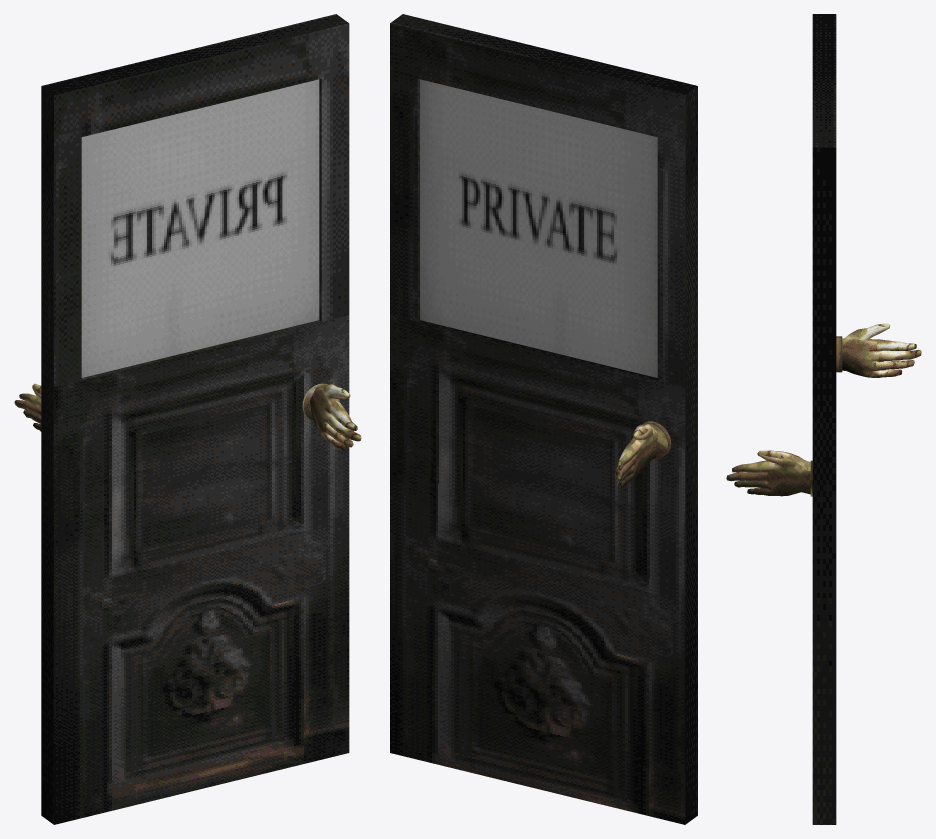
File: doortest.glb
3 renders of one model, left to right at view 1: azimuth 30°, elevation 25°; view 2: azimuth 150°, elevation 25°; view 3: azimuth 270°, elevation 25°, orthographic. The views are drawn at different scales.
Visible parts, largest first — view 1: Door-col; view 2: Door-col; view 3: Door-col.
Part boxes in pixels (x1,y1,x2,y2): Door-col: (14, 14, 361, 824); Door-col: (390, 14, 697, 824); Door-col: (726, 14, 921, 824).
Bounding box in the file's own units: 1.6 × 3.78 × 0.9876.
Materials: 1 (1 with a texture image).
